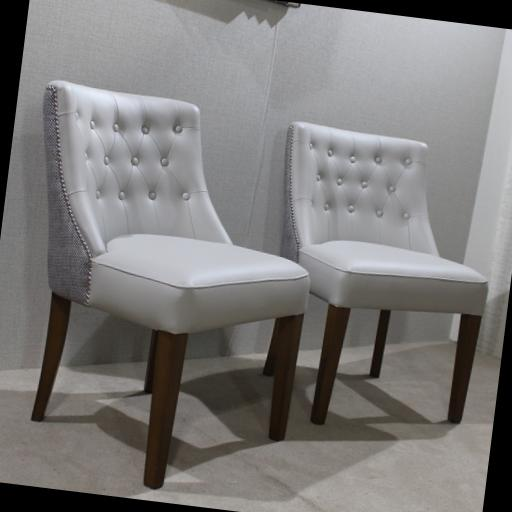chair: (0, 76, 331, 503), (251, 119, 505, 444)
wall: (0, 0, 507, 437)
